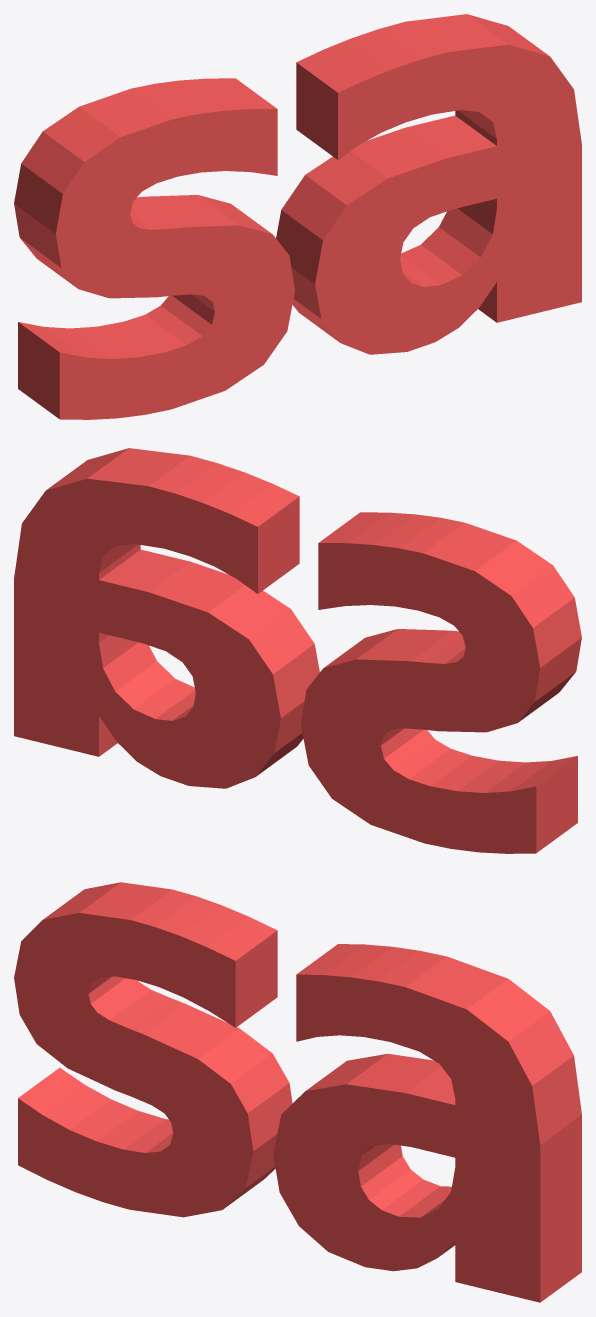
File: suku_kecil_sa.glb
3 renders of one model, top to bottom at view 1: azimuth 30°, elevation 25°; view 2: azimuth 150°, elevation 25°; view 3: azimuth 330°, elevation 25°, orthographic.
Parts seen in each view (by area): view 1: geometry_0; view 2: geometry_0; view 3: geometry_0.
Boxes of the visible parts, x1,y1,x2,y2 form: geometry_0: [14, 14, 581, 419]; geometry_0: [14, 448, 581, 853]; geometry_0: [14, 882, 581, 1302].
Bounding box in the file's own units: 10.91 × 5.74 × 1.5.
